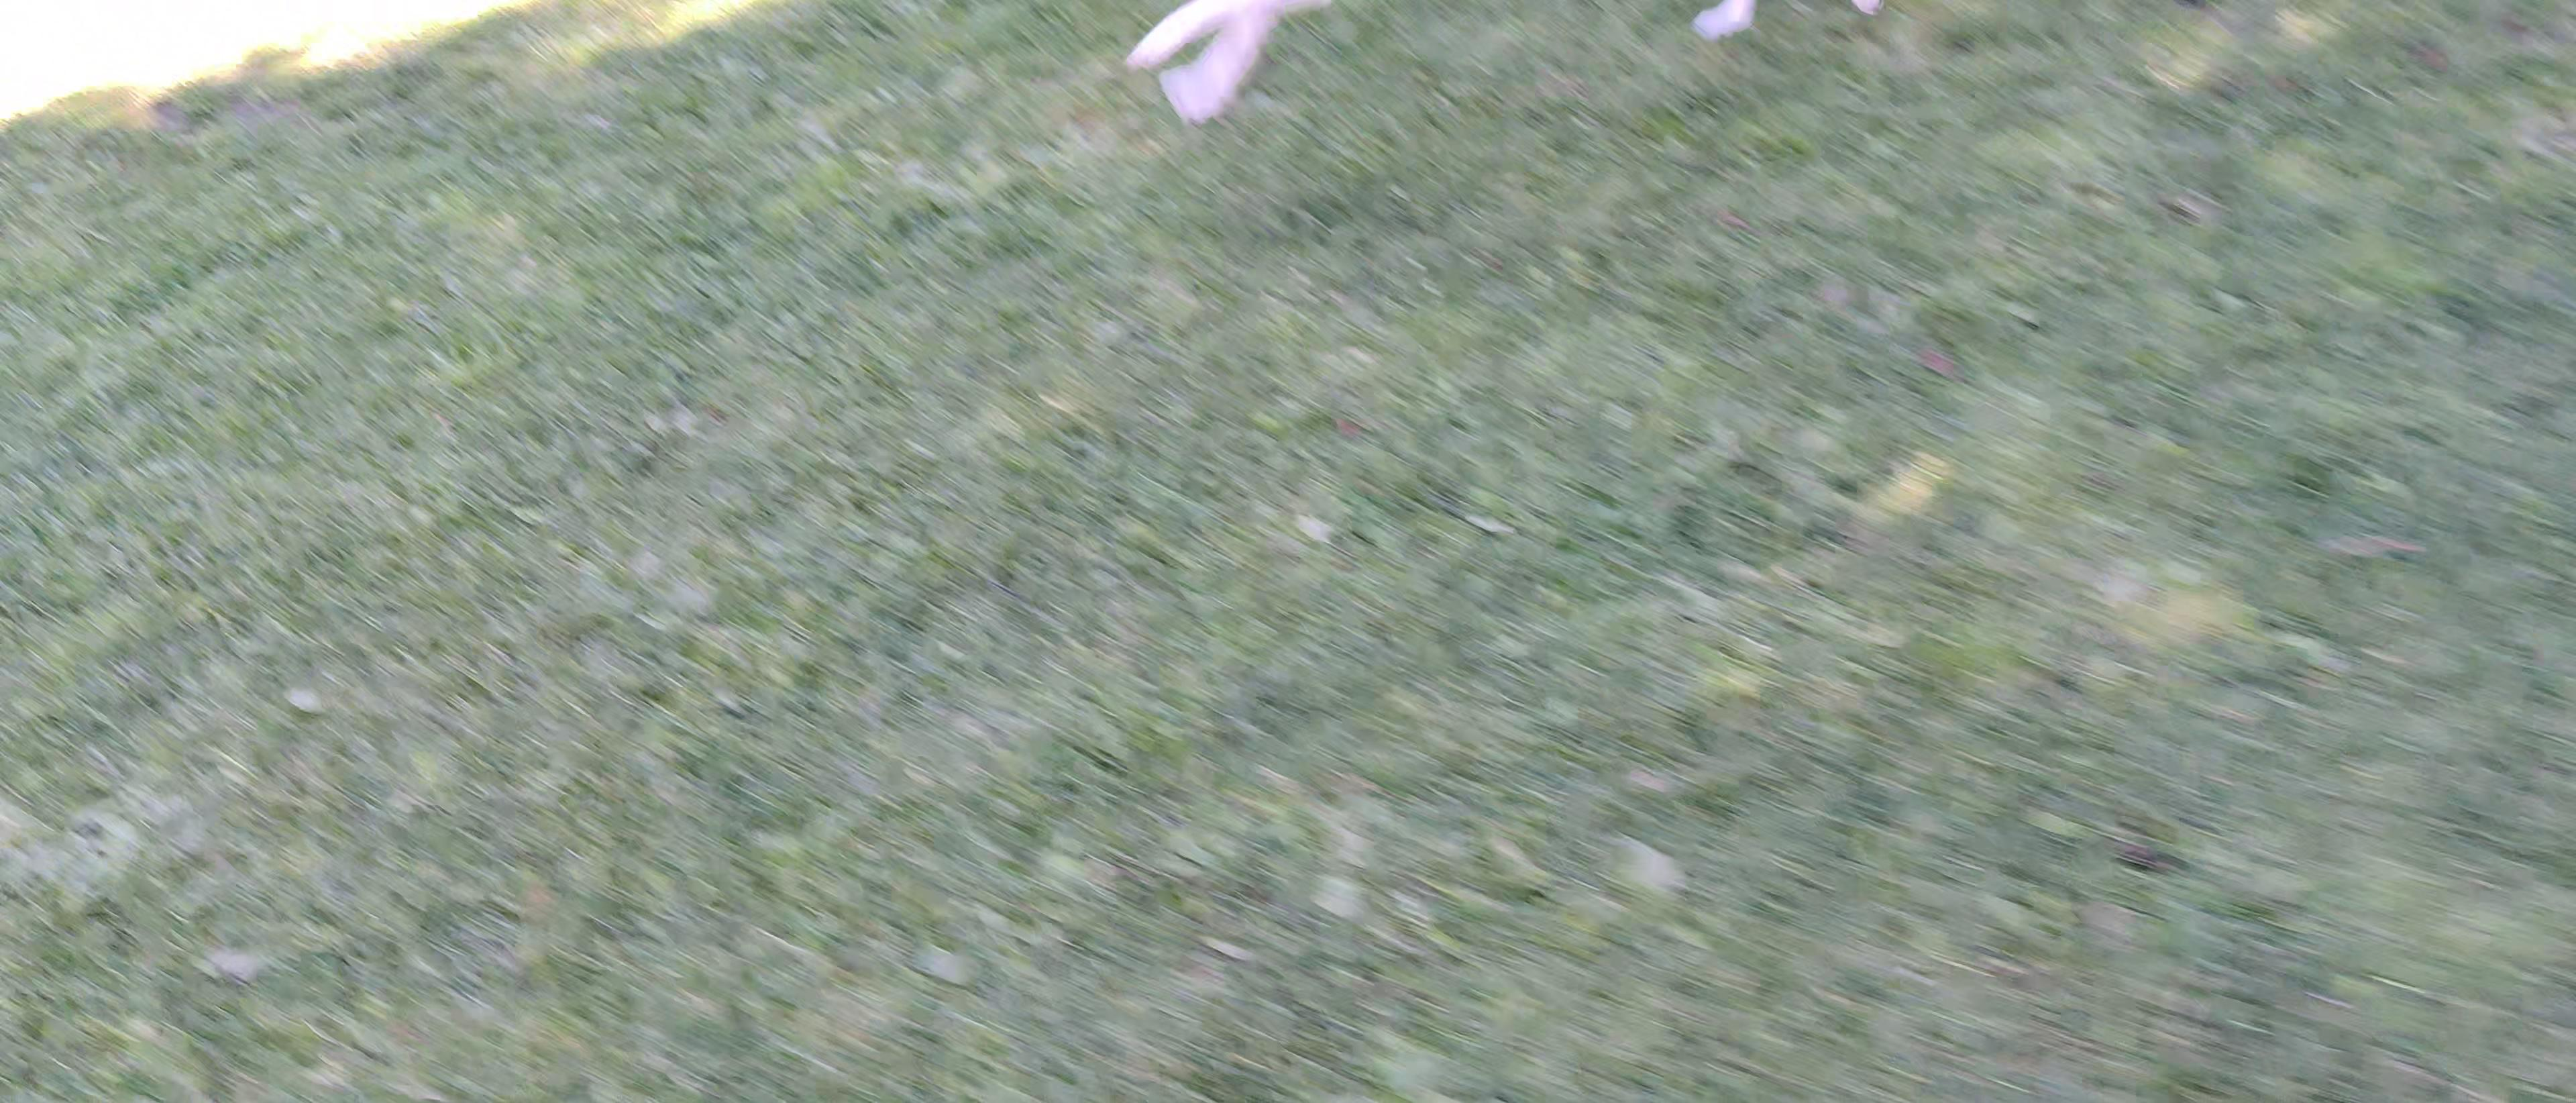Dog: (1119, 0, 1912, 79)
